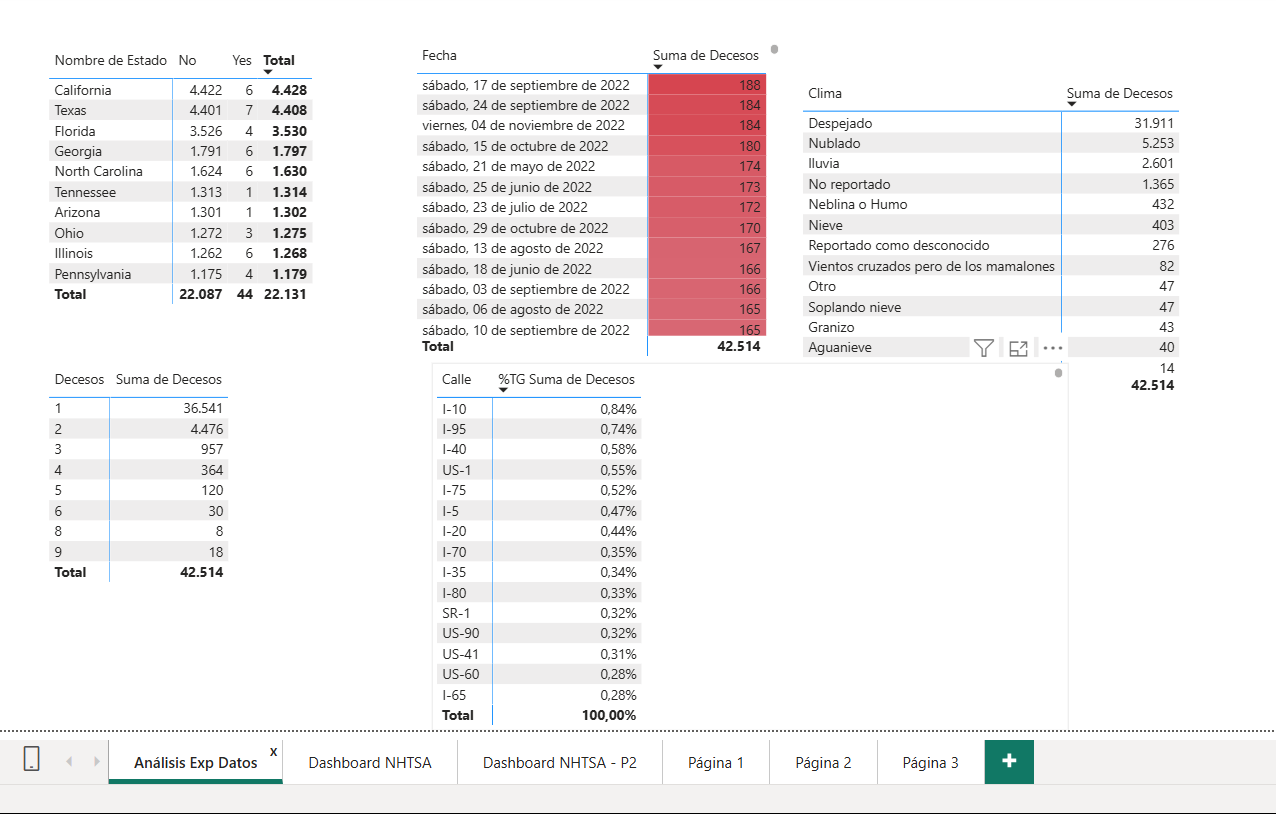

Layout of this report page (visuals, bound fields, positions):
{"tool":"powerbi","page":{"name":"Análisis Exp Datos","canvas":[1280,720],"ordinal":0},"visuals":[{"type":"pivotTable","fields":{"Rows":["Accidentes USA 2022.Nombre de Estado"],"Values":["Sum(Accidentes USA 2022.Decesos)"],"Columns":["Accidentes USA 2022.Autobus Escolar"]},"box":[60.4,49.4,269,277.2],"z":0},{"type":"pivotTable","fields":{"Rows":["Accidentes USA 2022.Fecha.Variación.Jerarquía de fechas.Mes"],"Values":["Sum(Accidentes USA 2022.Decesos)"]},"box":[419.4,44,364.4,315.5],"z":1000},{"type":"pivotTable","fields":{"Rows":["Accidentes USA 2022.Clima"],"Values":["Sum(Accidentes USA 2022.Decesos)"]},"box":[797.3,81,483,315.6],"z":2000},{"type":"pivotTable","fields":{"Rows":["Accidentes USA 2022.Decesos"],"Values":["Sum(Accidentes USA 2022.Decesos)"]},"box":[60.4,360.9,238.8,266.2],"z":3000},{"type":"pivotTable","fields":{"Rows":["Accidentes USA 2022.Calle"],"Values":["Sum(Accidentes USA 2022.Decesos)"]},"box":[439.1,360.9,623,359.5],"z":4000}]}

Visuals, with their boxes on the page's 1280x720 design canvas (x1, y1, x2, y2). These are canvas units, not pixel positions in the 1276x814 screenshot, which may show the page scaled, cropped or inside an application window:
pivotTable - Accidentes USA 2022.Nombre de Estado x Sum(Accidentes USA 2022.Decesos): 60, 49, 329, 327
pivotTable - Accidentes USA 2022.Fecha.Variación.Jerarquía de fechas.Mes x Sum(Accidentes USA 2022.Decesos): 419, 44, 784, 360
pivotTable - Accidentes USA 2022.Clima x Sum(Accidentes USA 2022.Decesos): 797, 81, 1280, 397
pivotTable - Accidentes USA 2022.Decesos x Sum(Accidentes USA 2022.Decesos): 60, 361, 299, 627
pivotTable - Accidentes USA 2022.Calle x Sum(Accidentes USA 2022.Decesos): 439, 361, 1062, 720
